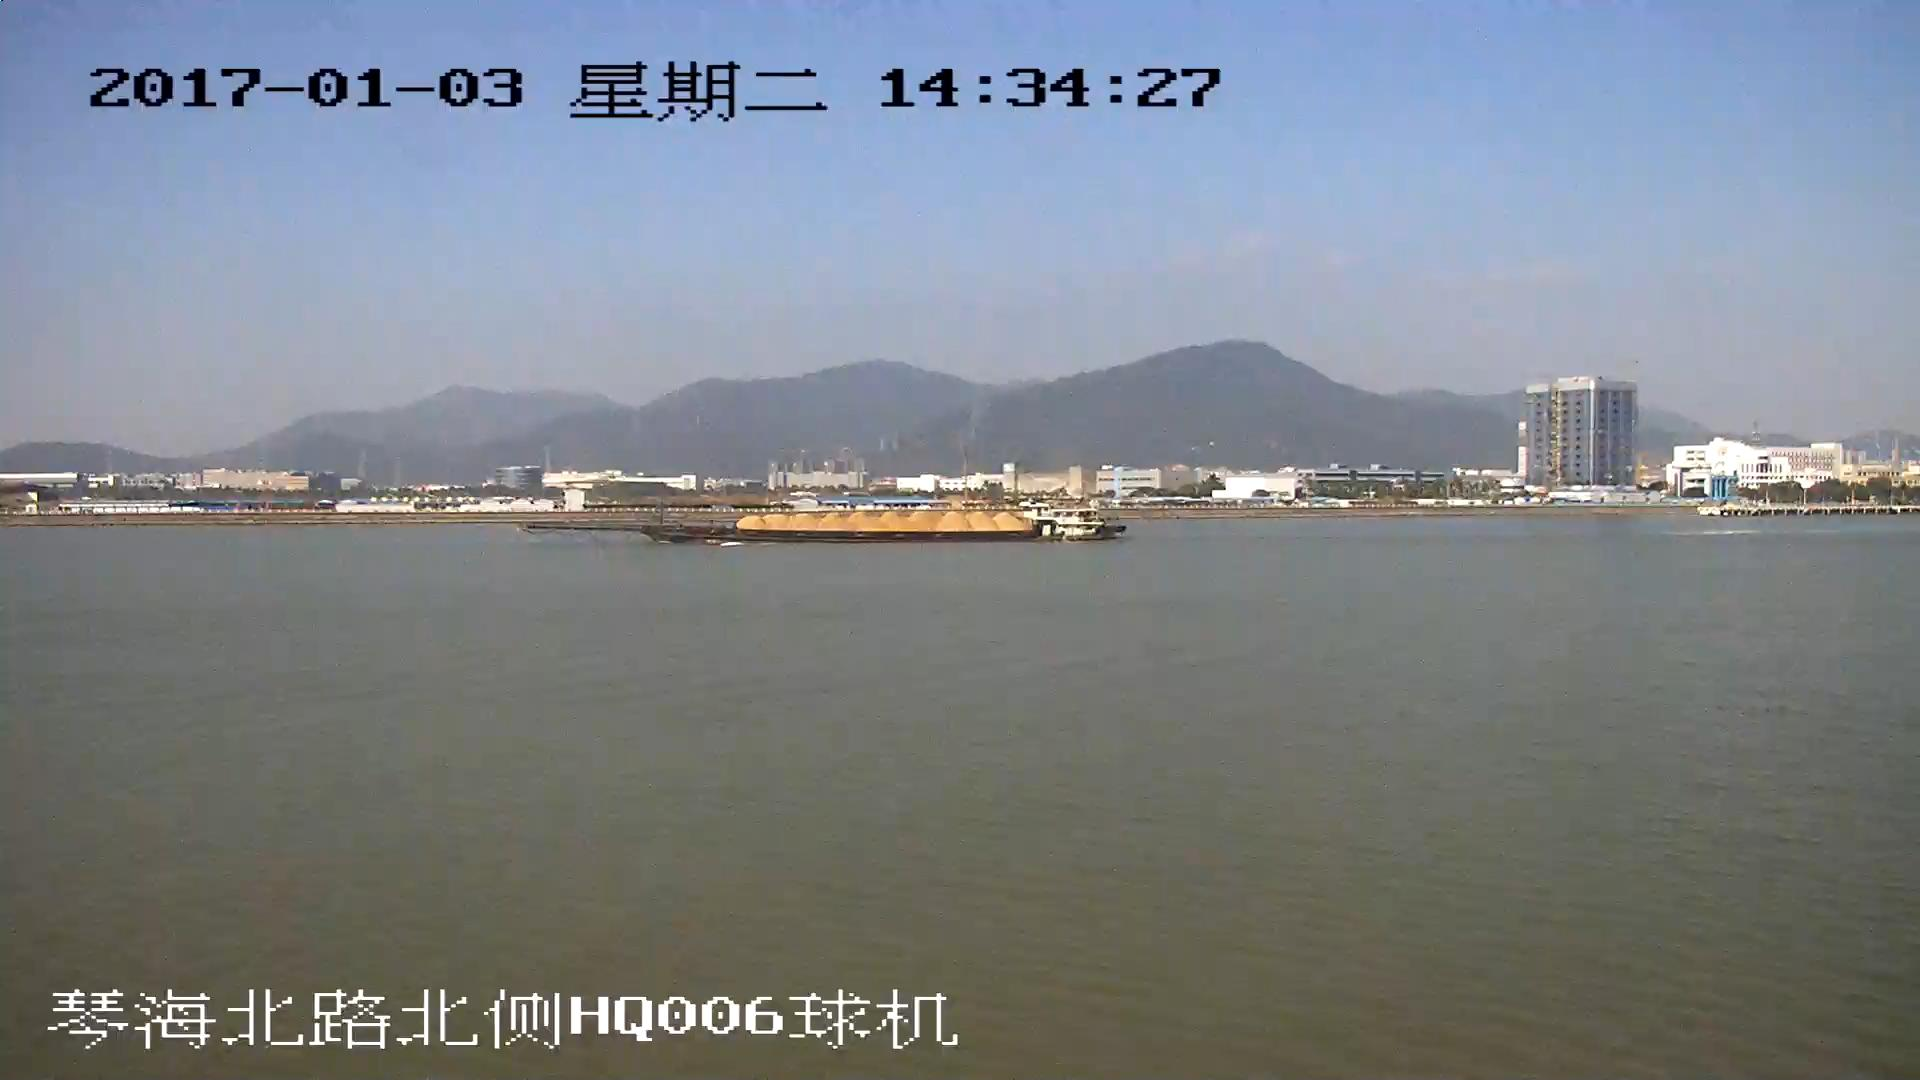ore carrier: (525, 498, 1126, 546)
